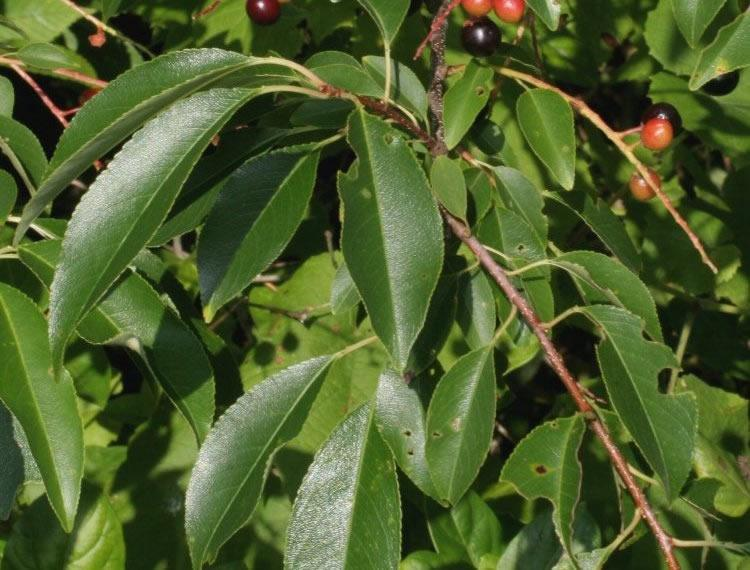Cherry leaf: (16, 24, 327, 351), (180, 345, 348, 570), (340, 105, 451, 375), (196, 141, 323, 326), (282, 407, 415, 570), (420, 339, 509, 517)
